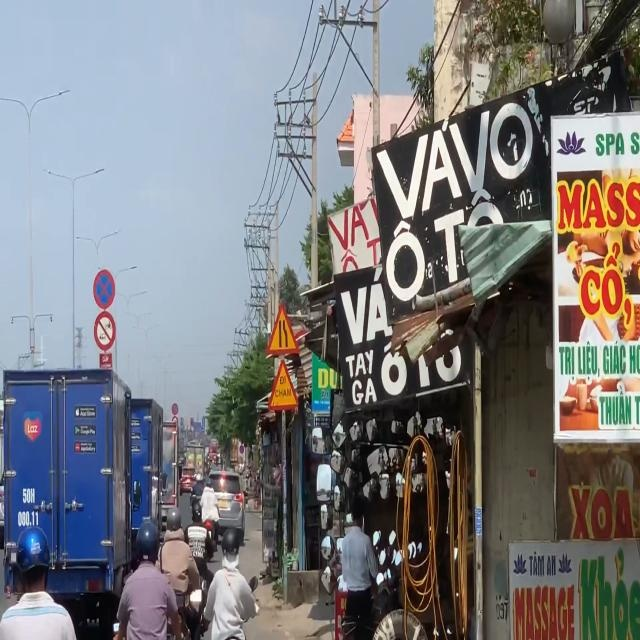bien_cam: (265, 302, 301, 358), (268, 358, 300, 411), (92, 267, 116, 310)
